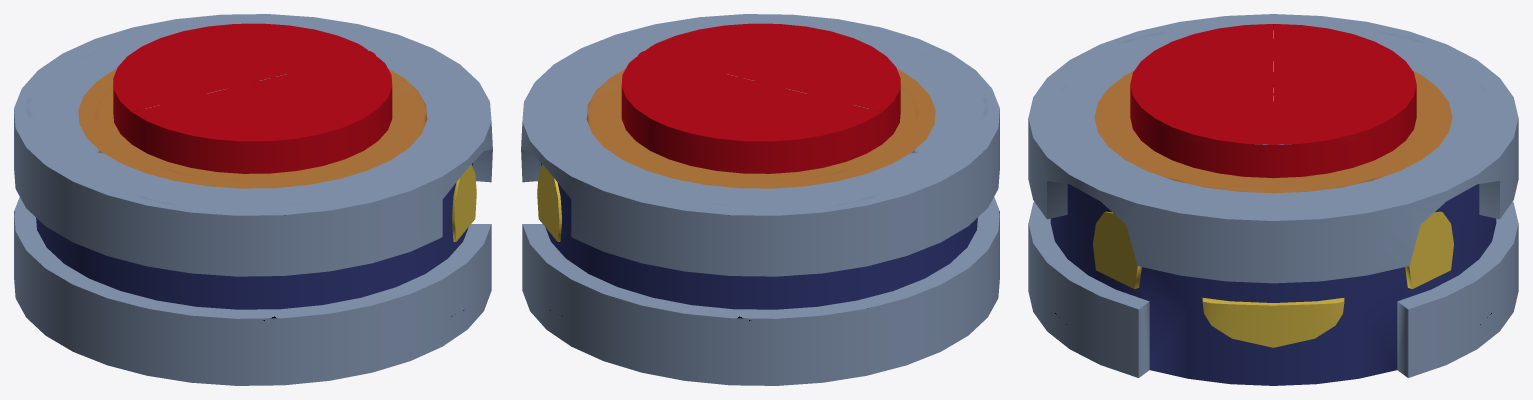
Rendered from RobbitSpot.fbx.
The picture shows the model from 3 angles, left to right: view 1: azimuth 30°, elevation 25°; view 2: azimuth 150°, elevation 25°; view 3: azimuth 270°, elevation 25°; orthographic projection. The views are drawn at different scales.
Visible parts, largest first — view 1: Cylinder, Cylinder.001; view 2: Cylinder, Cylinder.001; view 3: Cylinder, Cylinder.001.
Boxes of the visible parts, box(x1,y1,x2,y2) form: Cylinder: box(14, 14, 492, 385); Cylinder.001: box(452, 164, 476, 241); Cylinder: box(521, 14, 999, 385); Cylinder.001: box(537, 164, 561, 241); Cylinder: box(1028, 14, 1518, 385); Cylinder.001: box(1093, 211, 1453, 347).
Bounding box in the file's own units: 200 × 93.4 × 200.
Materials: 2 (2 with a texture image).
